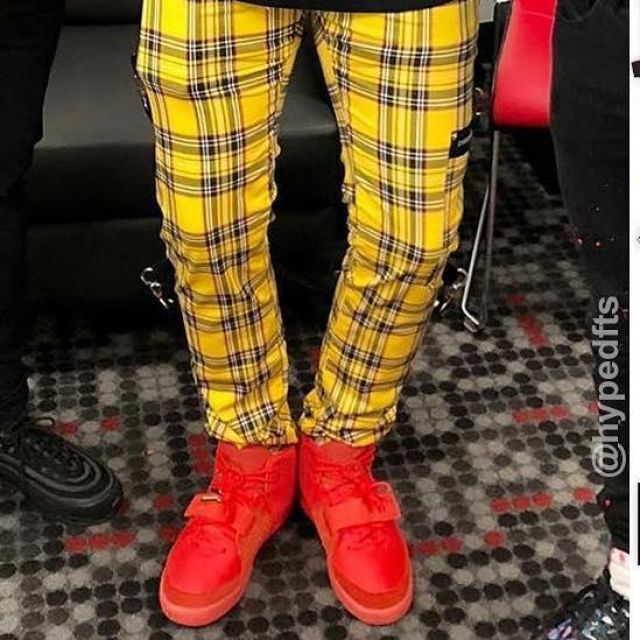Yeezy Red October: (143, 409, 303, 629), (294, 382, 434, 630)
